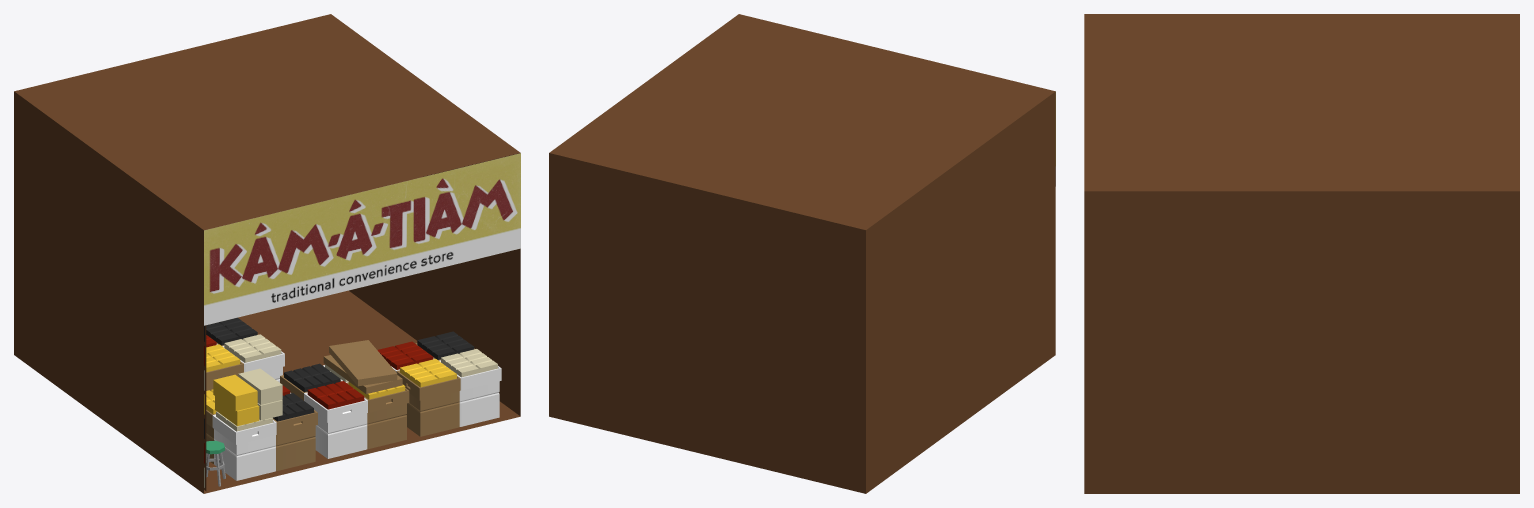
3 renders of one model, left to right at view 1: azimuth 30°, elevation 25°; view 2: azimuth 150°, elevation 25°; view 3: azimuth 270°, elevation 25°, orthographic. The views are drawn at different scales.
Visible parts, largest first — view 1: house, sign, Cube_7_12, cardboardbox_31, cardboardbox_6, cardboardbox_21, cardboardbox_27, cardboardbox_2, cardboardbox_17, Cube_5_12, cardboardbox_7, cardboardbox_22 (+18 smaller); view 2: house; view 3: house.
Boxes of the visible parts, x1,y1,x2,y2 form: house: (14,14,520,493); sign: (204,153,520,325); Cube_7_12: (329,340,397,386); cardboardbox_31: (212,414,276,455); cardboardbox_6: (396,370,460,411); cardboardbox_21: (304,392,367,433); cardboardbox_27: (214,440,275,480); cardboardbox_2: (406,402,459,436); cardboardbox_17: (315,424,367,458); Cube_5_12: (213,374,257,410); cardboardbox_7: (439,360,501,402); cardboardbox_22: (346,382,409,424); house: (549,14,1055,493); house: (1084,14,1519,493).
Size of the model in its own units: 2640 by 2100 by 2740.
10 materials, 1 textured.
